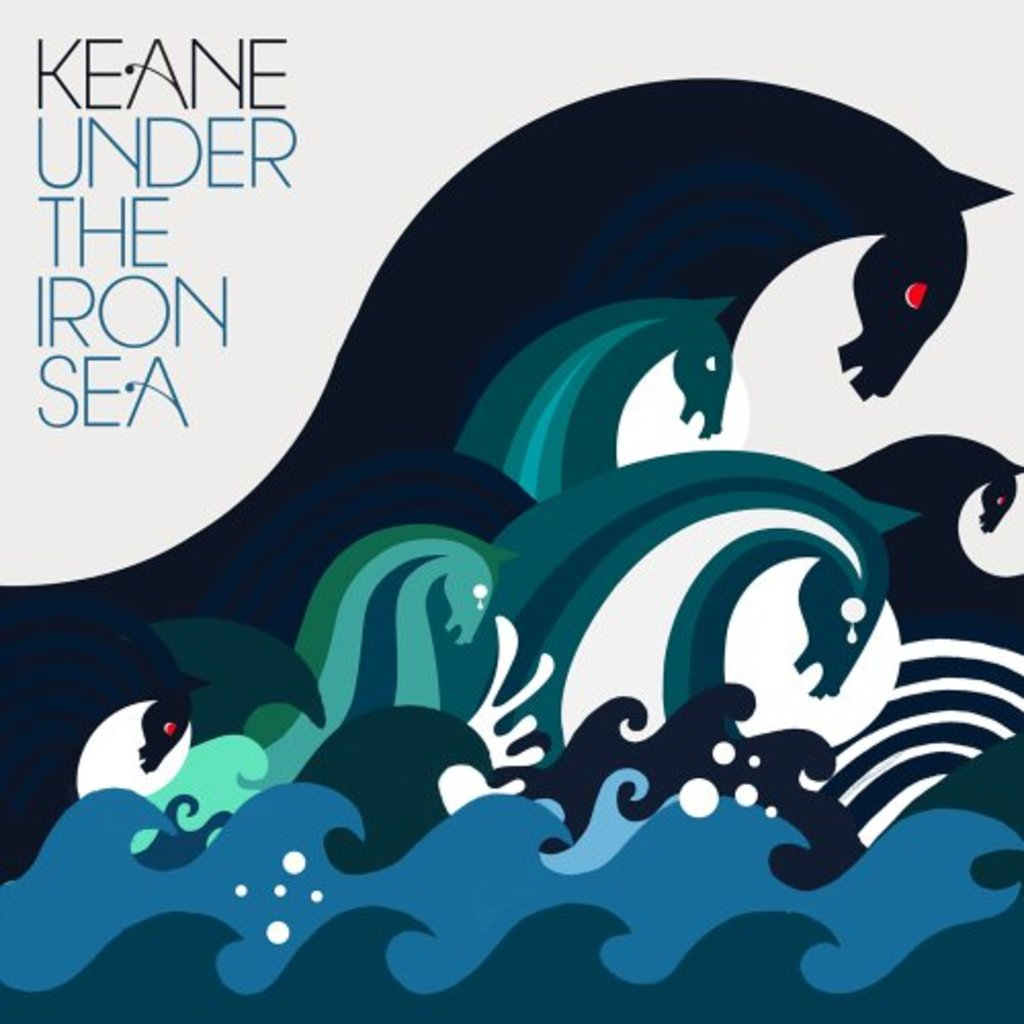Animal: (0, 71, 1020, 878)
